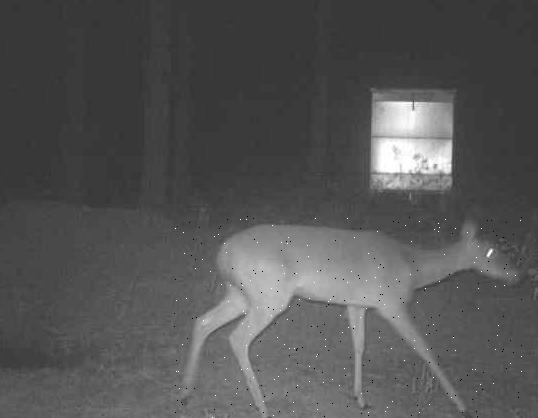Deer: (173, 216, 523, 418)
